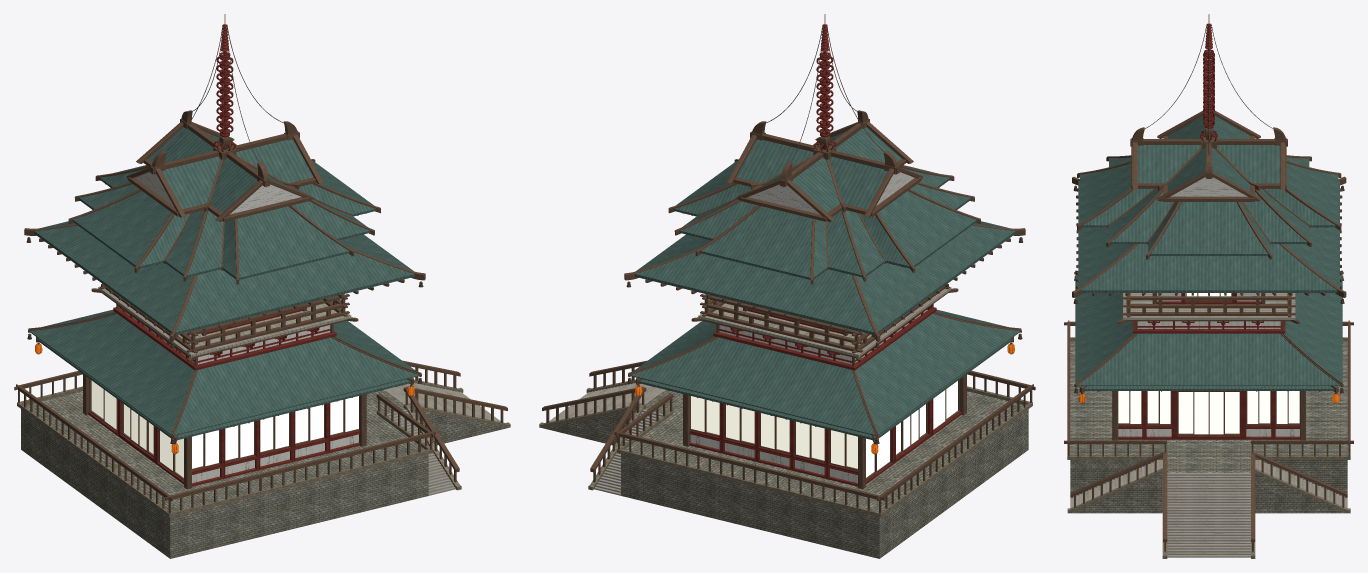
Rendered from japanese_castle.glb.
The picture shows the model from 3 angles, left to right: view 1: azimuth 30°, elevation 25°; view 2: azimuth 150°, elevation 25°; view 3: azimuth 270°, elevation 25°; orthographic projection. The views are drawn at different scales.
Visible parts, largest first — view 1: 2F base.010_roof_0, base_base cobblestone_0, 2F base.013_painted wood support_0, 1F_red wood_0, 1F.001_brick shoji_0, 2F base.015_floor plank wood_0, railing_conrete_0, 2F base.006_white painted wod_0, BezierCurve_metal_0; view 2: 2F base.010_roof_0, base_base cobblestone_0, 2F base.013_painted wood support_0, 1F_red wood_0, 1F.001_brick shoji_0, 2F base.015_floor plank wood_0, railing_conrete_0, 2F base.006_white painted wod_0, BezierCurve_metal_0; view 3: 2F base.010_roof_0, 2F base.013_painted wood support_0, base_base cobblestone_0, 2F base.015_floor plank wood_0, 1F.001_brick shoji_0, 1F_red wood_0, 2F base.006_white painted wod_0, railing_conrete_0, BezierCurve_metal_0.
Boxes of the visible parts, <box> form: 2F base.010_roof_0: <box>29,127,419,440</box>; base_base cobblestone_0: <box>21,389,507,558</box>; 2F base.013_painted wood support_0: <box>14,110,507,513</box>; 1F_red wood_0: <box>88,14,360,486</box>; 1F.001_brick shoji_0: <box>91,380,358,477</box>; 2F base.015_floor plank wood_0: <box>98,286,500,495</box>; railing_conrete_0: <box>17,379,510,517</box>; 2F base.006_white painted wod_0: <box>119,172,358,483</box>; BezierCurve_metal_0: <box>26,26,423,454</box>; 2F base.010_roof_0: <box>630,127,1020,440</box>; base_base cobblestone_0: <box>542,389,1028,558</box>; 2F base.013_painted wood support_0: <box>542,110,1035,513</box>; 1F_red wood_0: <box>689,14,961,486</box>; 1F.001_brick shoji_0: <box>691,381,957,477</box>; 2F base.015_floor plank wood_0: <box>549,286,951,495</box>; railing_conrete_0: <box>539,379,1032,517</box>; 2F base.006_white painted wod_0: <box>690,172,927,483</box>; BezierCurve_metal_0: <box>626,26,1022,454</box>; 2F base.010_roof_0: <box>1075,115,1342,390</box>; 2F base.013_painted wood support_0: <box>1064,106,1353,551</box>; base_base cobblestone_0: <box>1070,341,1347,533</box>; 2F base.015_floor plank wood_0: <box>1070,293,1347,557</box>; 1F.001_brick shoji_0: <box>1118,293,1299,434</box>; 1F_red wood_0: <box>1118,14,1299,439</box>; 2F base.006_white painted wod_0: <box>1118,177,1299,436</box>; railing_conrete_0: <box>1067,337,1350,558</box>; BezierCurve_metal_0: <box>1073,25,1344,403</box>.
Size of the model in its own units: 3065 by 3392 by 2090.
Materials: 11 (8 with a texture image).
